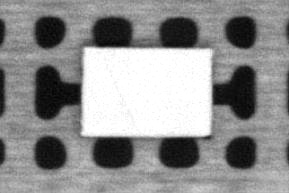DIE_CRACK: (109, 66, 138, 134)
